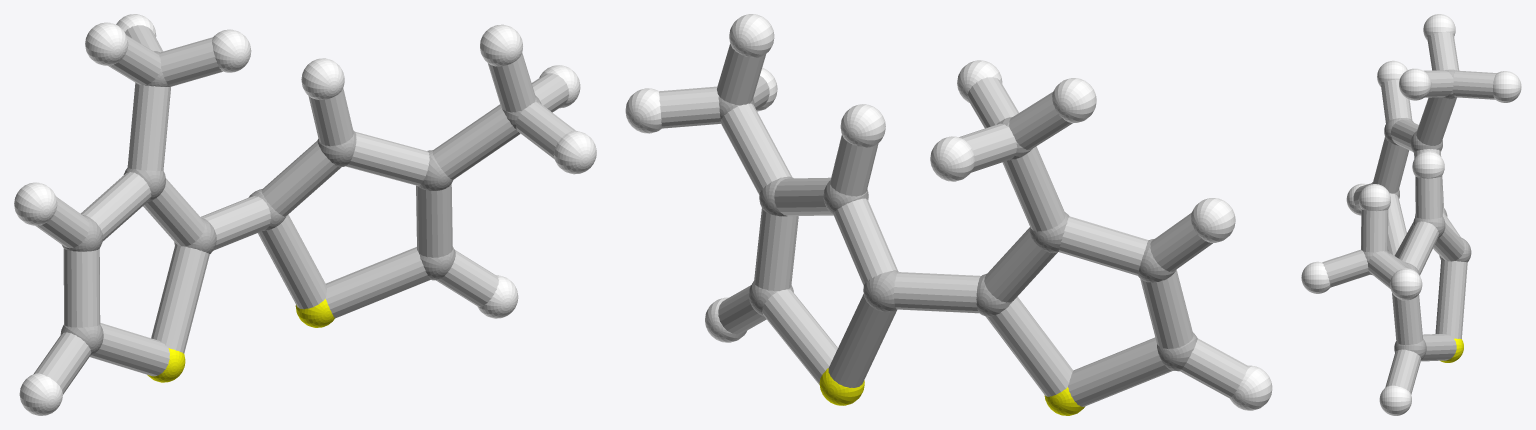
Rendered from Methylthiophene_Phi_40_Theta_200_Methylthiophene.glb.
The picture shows the model from 3 angles, left to right: view 1: azimuth 30°, elevation 25°; view 2: azimuth 150°, elevation 25°; view 3: azimuth 270°, elevation 25°; orthographic projection. The views are drawn at different scales.
Parts seen in each view (by area): view 1: grp7965, grp3621, grp1, grp7241; view 2: grp7965, grp3621, grp1, grp7241; view 3: grp7965, grp3621, grp1, grp7241.
Boxes of the visible parts, <box> form: grp7965: <box>33,25,575,394</box>; grp3621: <box>14,14,596,415</box>; grp1: <box>60,51,541,355</box>; grp7241: <box>147,299,334,382</box>; grp7965: <box>659,44,1248,406</box>; grp3621: <box>625,14,1272,410</box>; grp1: <box>718,96,1197,371</box>; grp7241: <box>819,368,1085,415</box>; grp7965: <box>1322,32,1496,394</box>; grp3621: <box>1301,14,1521,415</box>; grp1: <box>1363,69,1471,359</box>; grp7241: <box>1440,338,1463,362</box>.
Size of the model in its own units: 9.32 by 5.47 by 4.07.
